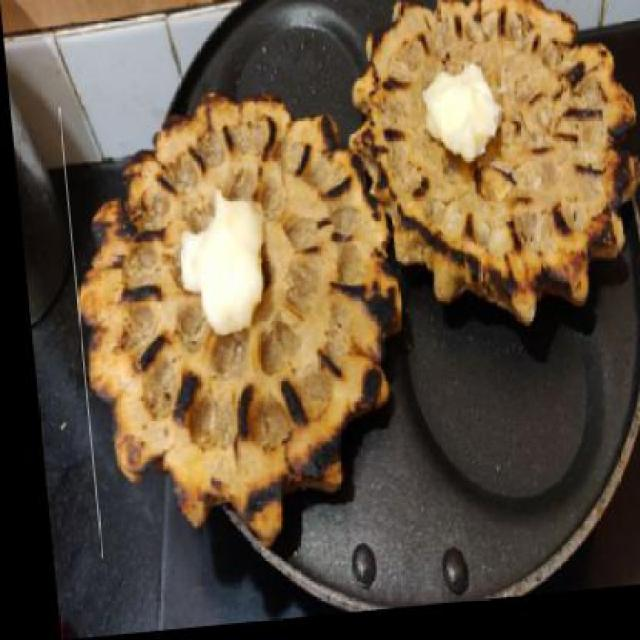chapati: (56, 84, 412, 562), (334, 0, 638, 346)
